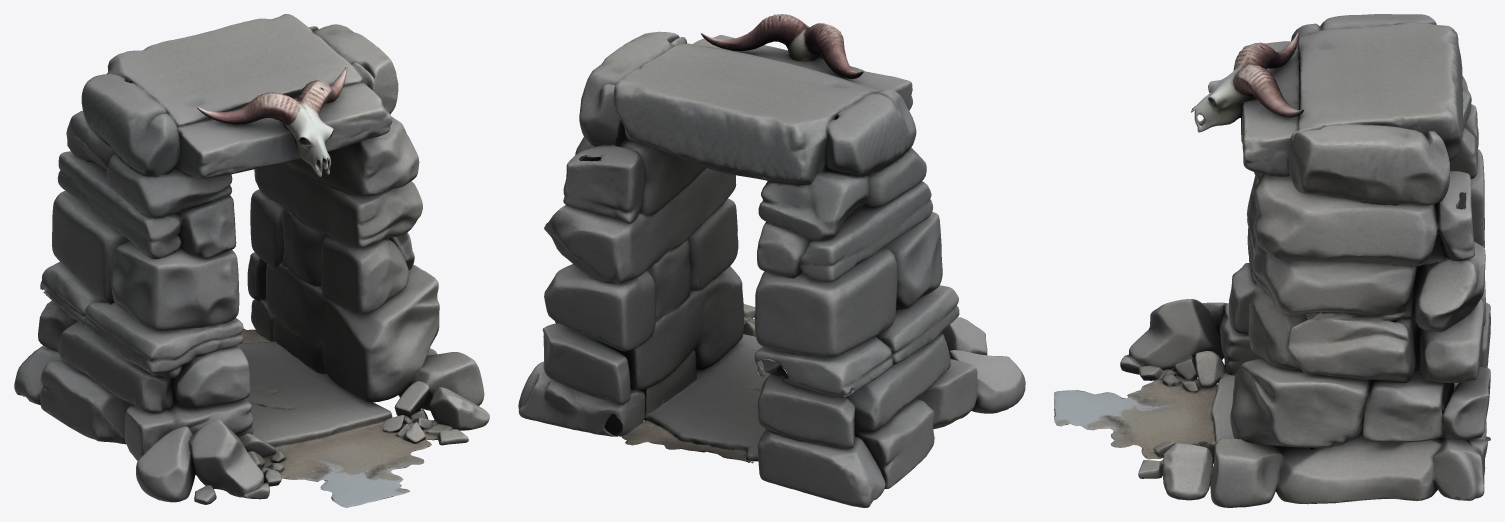
The model's file is dungeon-doorway-v1.glb.
3 views of the same model, side by side, from view 1: azimuth 30°, elevation 25°; view 2: azimuth 150°, elevation 25°; view 3: azimuth 270°, elevation 25° (orthographic). The views are drawn at different scales.
Visible parts, largest first — view 1: world; view 2: world; view 3: world.
Boxes of the visible parts, <box> form: world: <box>14,14,489,507</box>; world: <box>518,14,1025,507</box>; world: <box>1054,14,1490,507</box>.
Bounding box in the file's own units: 0.9775 × 0.9203 × 1.
Materials: 1 (1 with a texture image).
